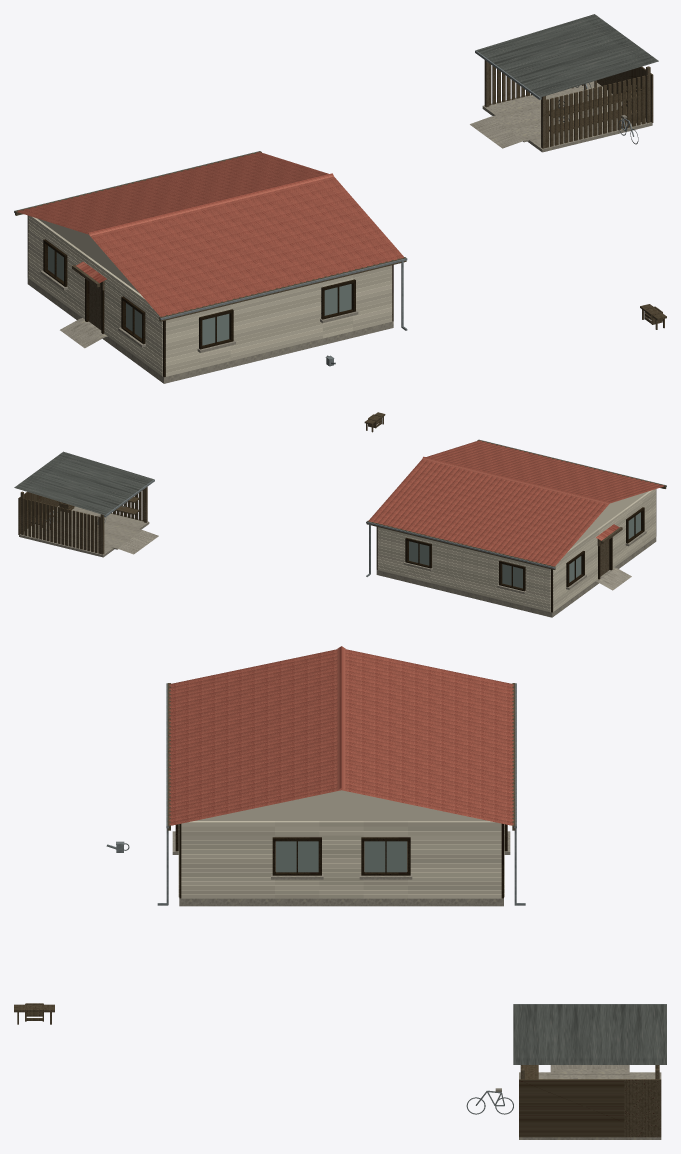
3 views of the same model, one above another, from view 1: azimuth 30°, elevation 25°; view 2: azimuth 150°, elevation 25°; view 3: azimuth 270°, elevation 25° (orthographic). The views are drawn at different scales.
Visible parts, largest first — view 1: H28_TELHAS, H28_LATERAIS, H28_OFICINA_CHAPAS_UMA_AGUA, H28_FACHADA, H28_OFICINA_RIPADO, H28_OFICINA_BASE, H28_FUNDACAO, H28_VIDROS_RECUADOS, H28_CAIXILHOS, H28_BEIRAIS, H28_OITOES, H28_CUMEEIRA (+8 smaller); view 2: H28_TELHAS, H28_LATERAIS, H28_OFICINA_CHAPAS_UMA_AGUA, H28_FACHADA, H28_OFICINA_RIPADO, H28_OFICINA_BASE, H28_FUNDACAO, H28_VIDROS_RECUADOS, H28_CAIXILHOS, H28_BEIRAIS, H28_OITOES, H28_CUMEEIRA (+7 smaller); view 3: H28_TELHAS, H28_FUNDOS, H28_OFICINA_CHAPAS_UMA_AGUA, H28_OFICINA_FECHO_FUNDO, H28_OITOES, H28_FUNDACAO, H28_VIDROS_RECUADOS, H28_CAIXILHOS, H28_CUMEEIRA, H28_OFICINA_BASE, H28_BEIRAIS, H28_PEITORIS.
Boxes of the visible parts, x1,y1,x2,y2 form: H28_TELHAS: (17, 152, 403, 316); H28_LATERAIS: (165, 265, 392, 376); H28_OFICINA_CHAPAS_UMA_AGUA: (476, 14, 658, 97); H28_FACHADA: (28, 215, 162, 376); H28_OFICINA_RIPADO: (489, 63, 650, 147); H28_OFICINA_BASE: (482, 81, 652, 152); H28_FUNDACAO: (27, 278, 393, 383); H28_VIDROS_RECUADOS: (48, 246, 351, 345); H28_CAIXILHOS: (43, 239, 355, 349); H28_BEIRAIS: (15, 151, 406, 321); H28_OITOES: (38, 218, 139, 293); H28_CUMEEIRA: (88, 173, 333, 235); H28_TELHAS: (368, 440, 663, 566); H28_LATERAIS: (377, 527, 550, 612); H28_OFICINA_CHAPAS_UMA_AGUA: (14, 451, 153, 515); H28_FACHADA: (553, 489, 655, 611); H28_OFICINA_RIPADO: (20, 489, 143, 553); H28_OFICINA_BASE: (19, 506, 149, 557); H28_FUNDACAO: (376, 537, 656, 617); H28_VIDROS_RECUADOS: (409, 512, 640, 588); H28_CAIXILHOS: (405, 507, 644, 591); H28_BEIRAIS: (366, 440, 666, 569); H28_OITOES: (570, 491, 648, 548); H28_CUMEEIRA: (422, 456, 610, 504); H28_TELHAS: (169, 649, 513, 825); H28_FUNDOS: (181, 821, 501, 898); H28_OFICINA_CHAPAS_UMA_AGUA: (513, 1004, 666, 1064); H28_OFICINA_FECHO_FUNDO: (519, 1079, 661, 1137); H28_OITOES: (195, 790, 487, 820); H28_FUNDACAO: (179, 841, 503, 906); H28_VIDROS_RECUADOS: (276, 841, 406, 872); H28_CAIXILHOS: (175, 824, 507, 875); H28_CUMEEIRA: (337, 646, 345, 790); H28_OFICINA_BASE: (519, 1072, 661, 1139); H28_BEIRAIS: (167, 683, 515, 830); H28_PEITORIS: (172, 831, 510, 879).
Size of the model in its own units: 28.64 by 4.28 by 20.63.
11 materials, 8 textured.
